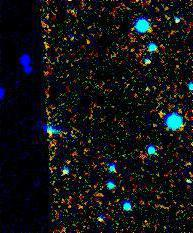star: (146, 99, 176, 129)
